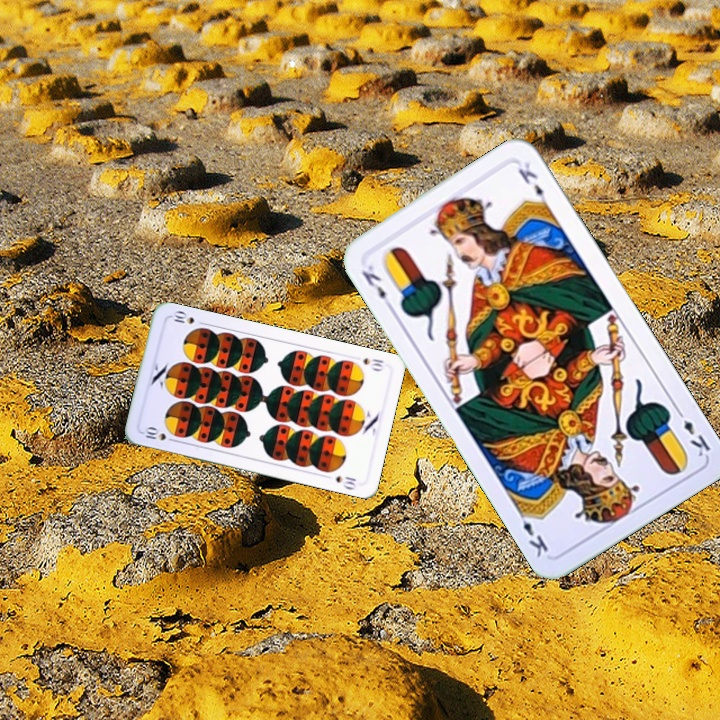EK: (671, 404, 714, 460), (357, 260, 397, 312)
S10: (139, 424, 179, 445), (359, 354, 386, 374)
